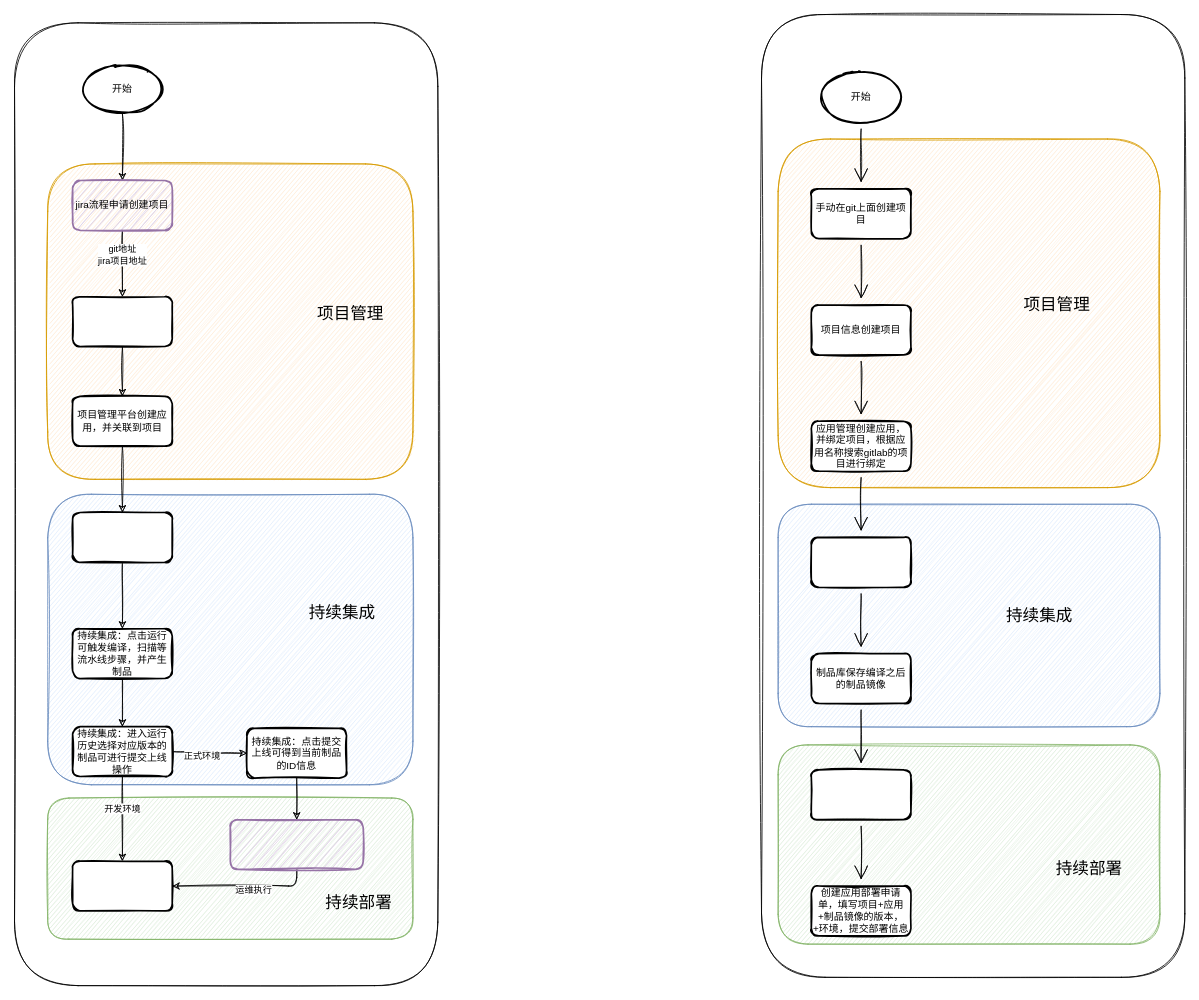
Some shapes in this 1199 by 1000 pixel diagram are drawn without their labels. The shapes that lost their labels are listed below. From the top down, each one's box as (x1, y1, x2, y2) in pixels, then its label:
(71, 295, 173, 347): 项目管理平台创建项目
(71, 511, 173, 563): 持续集成：新建一个持续集成流水线，选择对应的模板
(810, 536, 911, 588): 应用编译新建，配置编译的环境，分支等等信息
(810, 769, 911, 820): 新建应用的部署配置,包括服务器地址，部署路径等等
(229, 818, 364, 870): 发布上线：创建jira发布申请单，附上提交上线的制品信息，以及哦我只是变更，SQL变更信息等等
(71, 860, 173, 911): 持续部署：点击运行按钮可选择制品以及制品部署的集群
